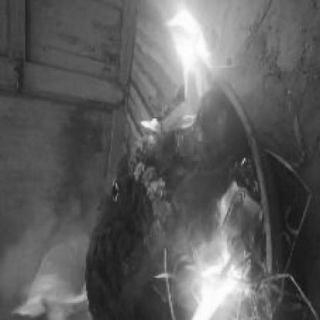Fire: (169, 233, 267, 316), (154, 1, 231, 105)
